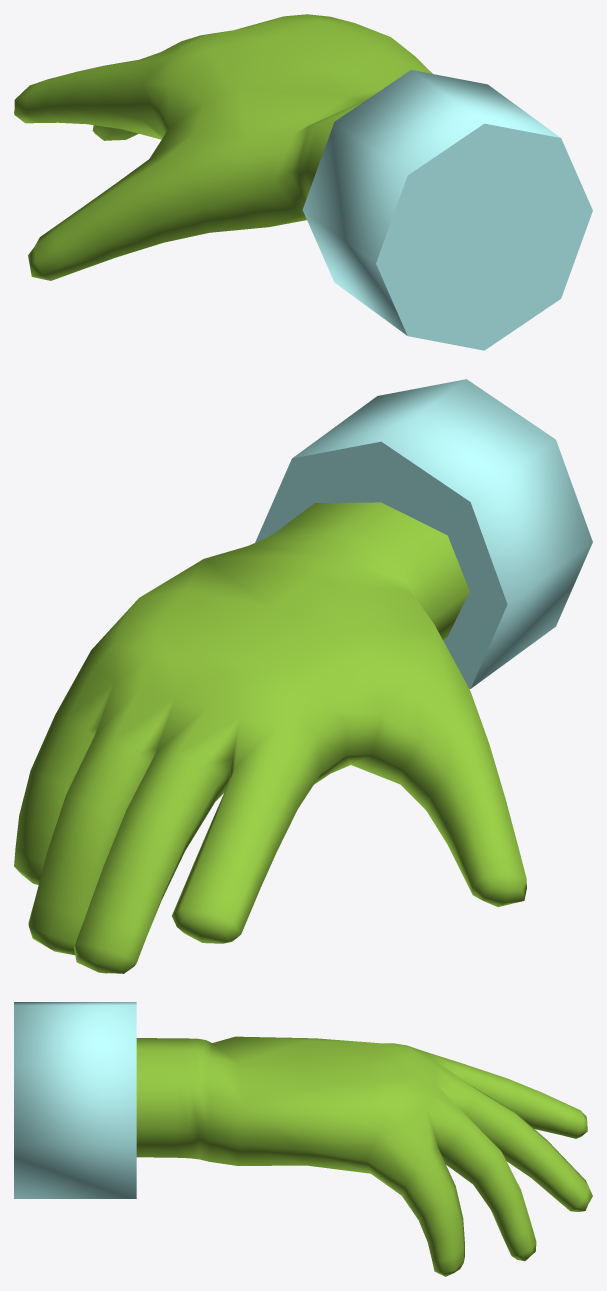
File: hand.glb
3 views of the same model, one above another, from view 1: azimuth 30°, elevation 25°; view 2: azimuth 150°, elevation 25°; view 3: azimuth 270°, elevation 25° (orthographic). The views are drawn at different scales.
Visible parts, largest first — view 1: Cylinder, Hand; view 2: Hand, Cylinder; view 3: Hand, Cylinder.
Boxes of the visible parts, x1=… form: Cylinder: x1=302, y1=70, x2=592, y2=350; Hand: x1=14, y1=14, x2=432, y2=280; Hand: x1=14, y1=502, x2=526, y2=973; Cylinder: x1=255, y1=379, x2=592, y2=688; Hand: x1=136, y1=1036, x2=592, y2=1276; Cylinder: x1=14, y1=1002, x2=136, y2=1198.
Size of the model in its own units: 0.1986 by 0.1395 by 0.3136.
